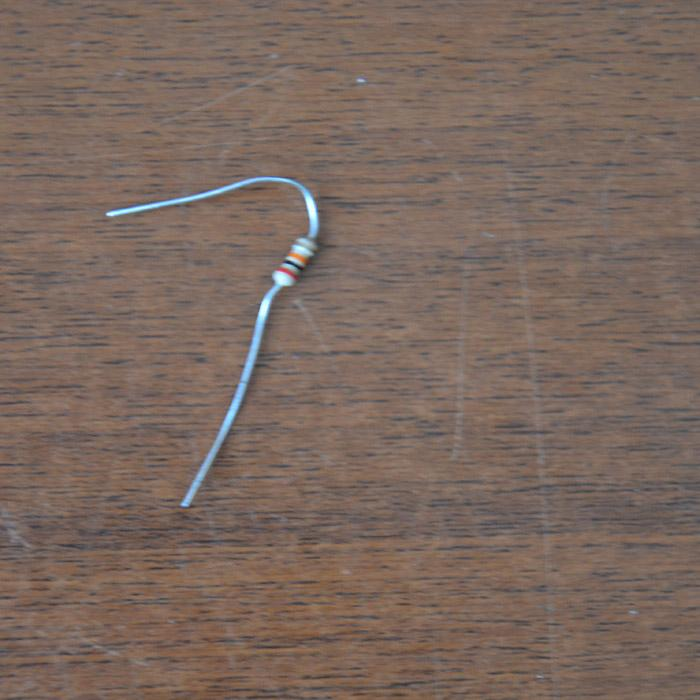resistor: (273, 236, 318, 287)
